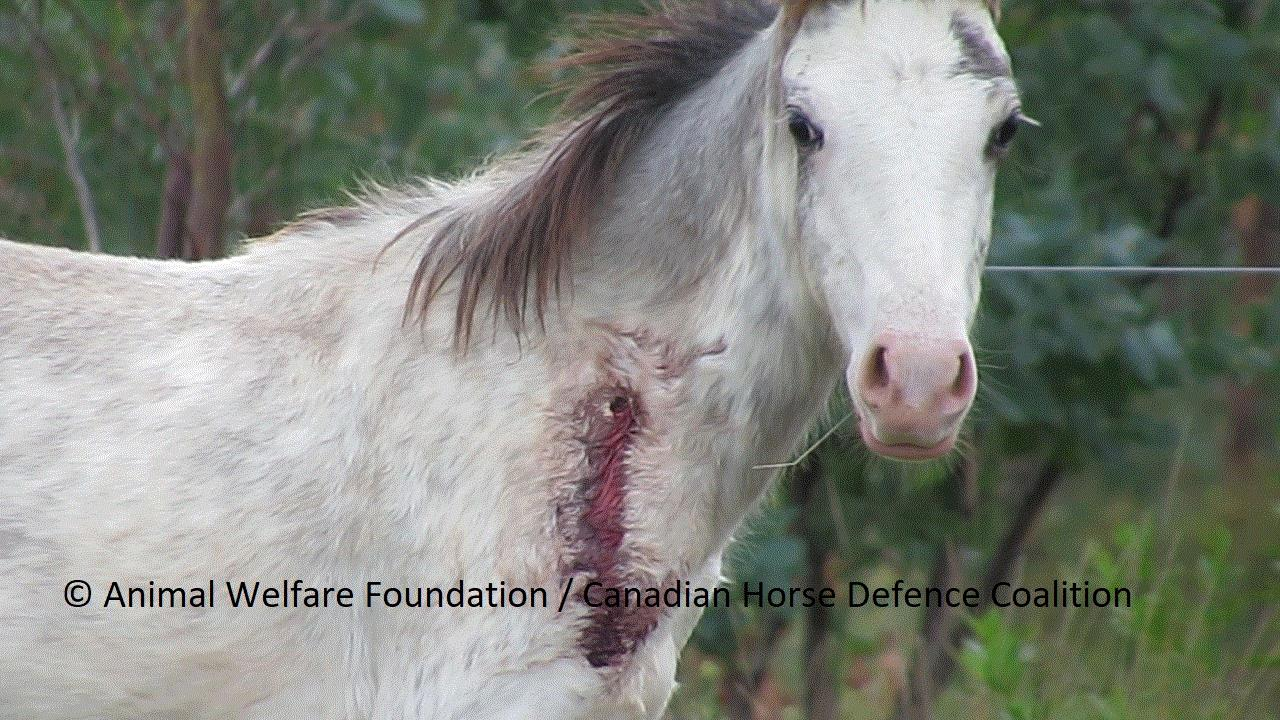cut: (481, 324, 698, 702)
